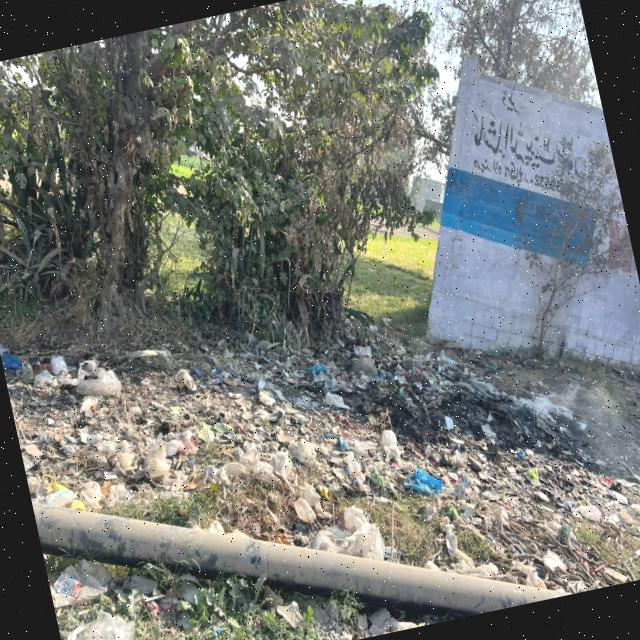garbage: (101, 313, 598, 612), (1, 302, 284, 428)
